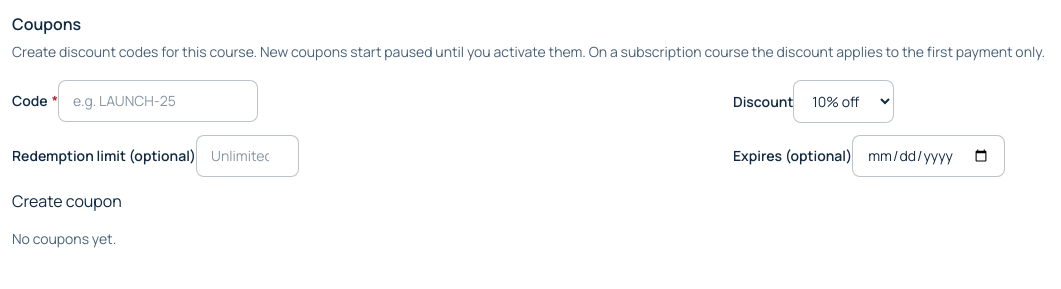
Test: painel de cupons › o cupom recusado é anunciado, não só pintado
In the field labelled "Code*": (158, 101) left=58, top=80, right=258, bottom=122, type "AB"
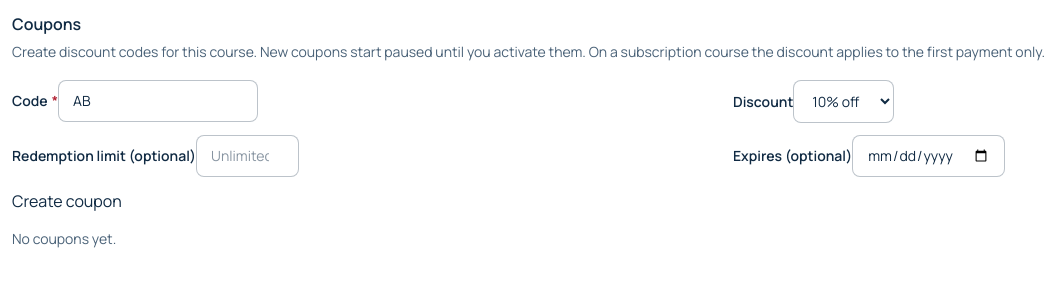
Click the button "Create coupon": click(67, 201) left=12, top=189, right=122, bottom=213
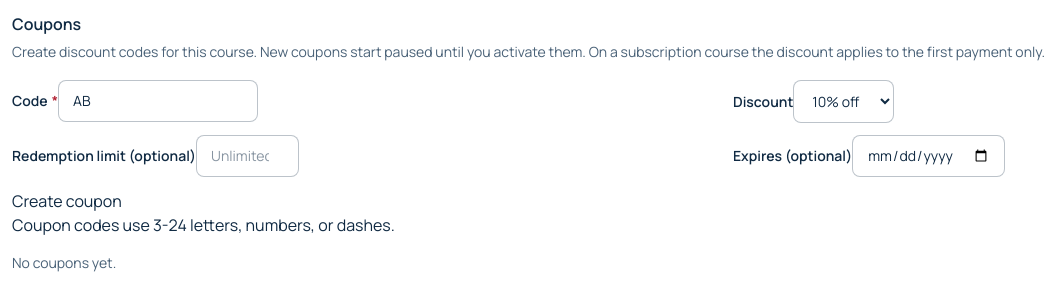
Result: the message shows "Coupon codes use 3-24 letters" at left=12, top=214, right=395, bottom=236
